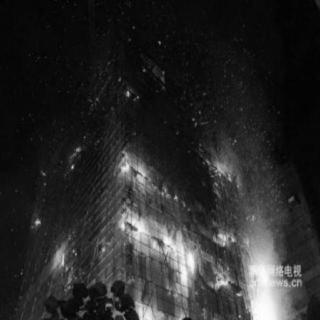Fire: (213, 138, 301, 318), (119, 147, 197, 317), (55, 244, 69, 268)
Smoke: (160, 8, 272, 134)
